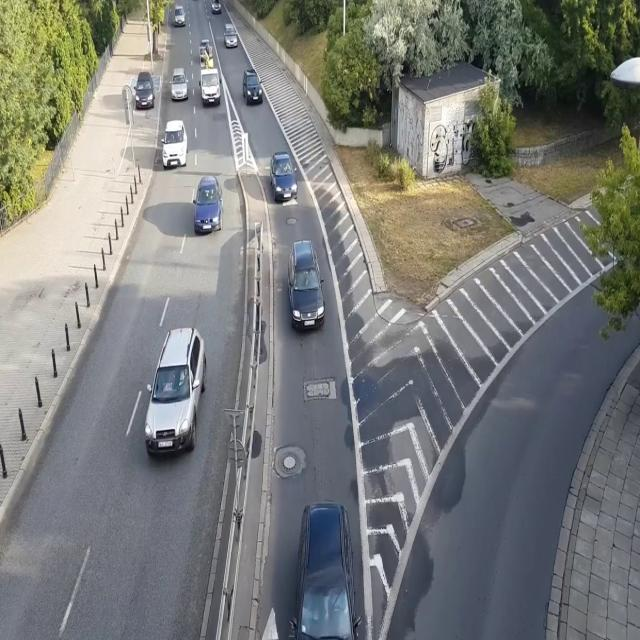car: (287, 499, 363, 640), (144, 326, 208, 461), (287, 239, 326, 333), (192, 173, 224, 234), (270, 151, 299, 202), (161, 120, 188, 170), (132, 70, 156, 109), (242, 68, 263, 105), (170, 68, 190, 102), (223, 22, 239, 49), (172, 6, 186, 26), (210, 0, 222, 14)
truck: (198, 38, 222, 106)
